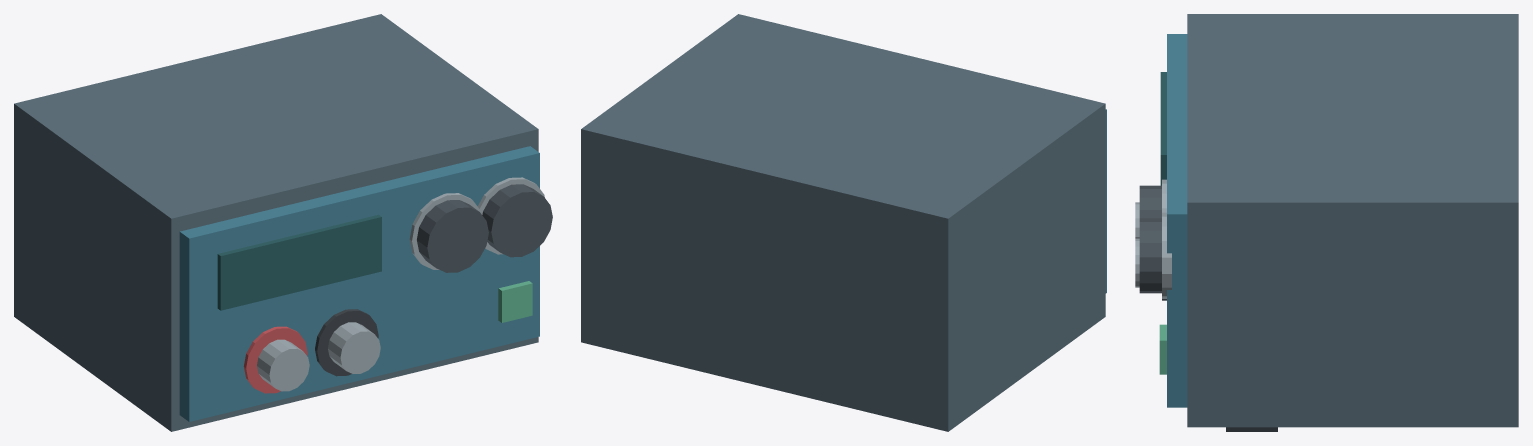
File: power_supply_lod2.glb
3 renders of one model, left to right at view 1: azimuth 30°, elevation 25°; view 2: azimuth 150°, elevation 25°; view 3: azimuth 270°, elevation 25°, orthographic. The views are drawn at different scales.
Parts seen in each view (by area): view 1: PSU_BODY_MAT_METAL_DARK, PSU_FRONT_MAT_POLYMER_BLUE, PSU_SCREEN_MAT_EMISSIVE_SCREEN, KNOB_VOLTAGE_MAT_POLYMER_BLACK, KNOB_CURRENT_MAT_POLYMER_BLACK, OUTPUT_POS_MAT_METAL_BRUSHED, OUTPUT_NEG_MAT_METAL_BRUSHED, OUTPUT_POS_INSULATOR_MAT_RED, OUTPUT_NEG_INSULATOR_MAT_BLACK, POWER_BUTTON_MAT_GREEN, KNOB_RING_0_MAT_METAL_BRUSHED, KNOB_RING_1_MAT_METAL_BRUSHED; view 2: PSU_BODY_MAT_METAL_DARK; view 3: PSU_BODY_MAT_METAL_DARK, PSU_FRONT_MAT_POLYMER_BLUE, KNOB_CURRENT_MAT_POLYMER_BLACK, KNOB_VOLTAGE_MAT_POLYMER_BLACK, PSU_SCREEN_MAT_EMISSIVE_SCREEN, KNOB_RING_1_MAT_METAL_BRUSHED, POWER_BUTTON_MAT_GREEN.
Part boxes in pixels (box(x1,y1,x2,y2)): PSU_BODY_MAT_METAL_DARK: box(14, 14, 538, 431); PSU_FRONT_MAT_POLYMER_BLUE: box(179, 146, 539, 421); PSU_SCREEN_MAT_EMISSIVE_SCREEN: box(217, 214, 381, 310); KNOB_VOLTAGE_MAT_POLYMER_BLACK: box(417, 200, 488, 272); KNOB_CURRENT_MAT_POLYMER_BLACK: box(482, 184, 552, 257); OUTPUT_POS_MAT_METAL_BRUSHED: box(257, 339, 309, 391); OUTPUT_NEG_MAT_METAL_BRUSHED: box(328, 322, 380, 373); OUTPUT_POS_INSULATOR_MAT_RED: box(243, 326, 307, 393); OUTPUT_NEG_INSULATOR_MAT_BLACK: box(315, 309, 378, 376); POWER_BUTTON_MAT_GREEN: box(498, 281, 532, 322); KNOB_RING_0_MAT_METAL_BRUSHED: box(409, 193, 480, 269); KNOB_RING_1_MAT_METAL_BRUSHED: box(477, 177, 544, 254); PSU_BODY_MAT_METAL_DARK: box(581, 14, 1105, 431); PSU_BODY_MAT_METAL_DARK: box(1187, 14, 1518, 427); PSU_FRONT_MAT_POLYMER_BLUE: box(1167, 34, 1187, 407); KNOB_CURRENT_MAT_POLYMER_BLACK: box(1139, 218, 1161, 293); KNOB_VOLTAGE_MAT_POLYMER_BLACK: box(1139, 185, 1161, 218); PSU_SCREEN_MAT_EMISSIVE_SCREEN: box(1160, 72, 1166, 185); KNOB_RING_1_MAT_METAL_BRUSHED: box(1162, 212, 1171, 298); POWER_BUTTON_MAT_GREEN: box(1159, 324, 1166, 374).
Size of the model in its own units: 1.55 by 0.91 by 1.33.
